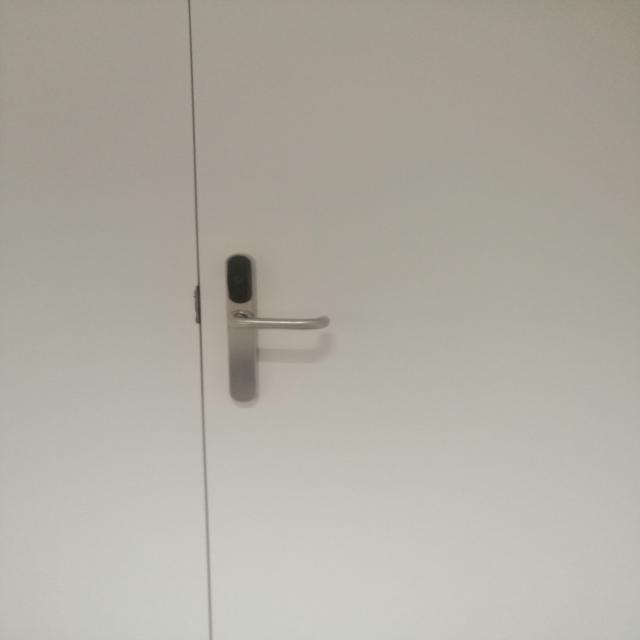door_handle: (221, 309, 334, 332)
